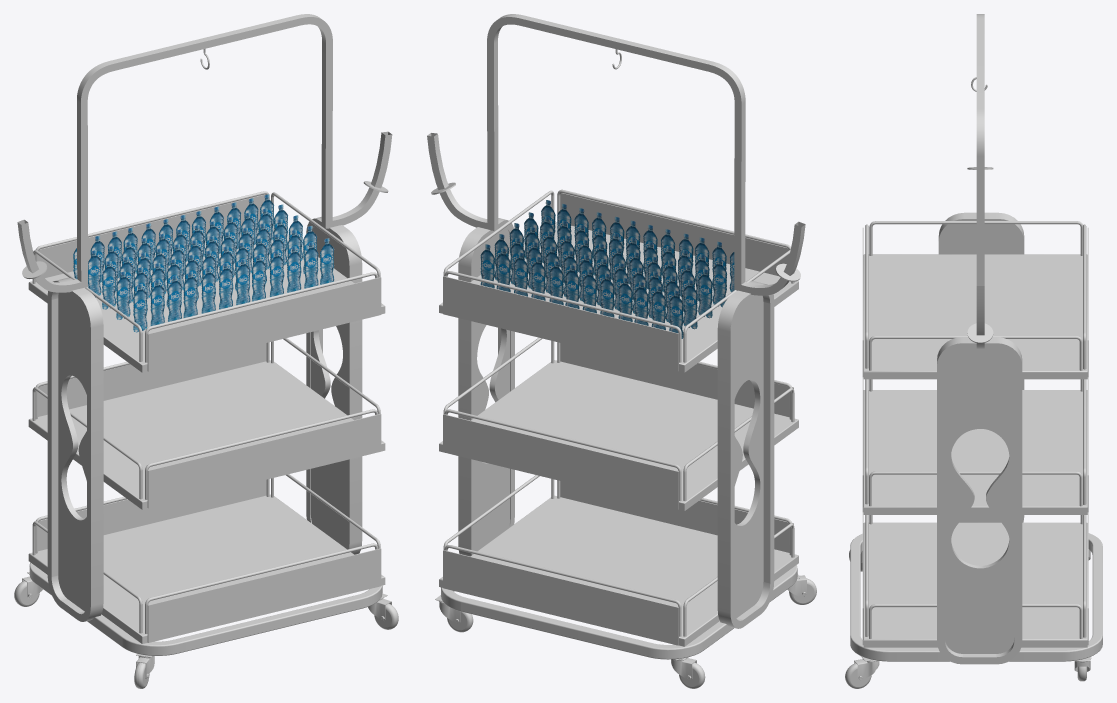
File: Mueble1.fbx
3 views of the same model, side by side, from view 1: azimuth 30°, elevation 25°; view 2: azimuth 150°, elevation 25°; view 3: azimuth 270°, elevation 25° (orthographic). The views are drawn at different scales.
Parts seen in each view (by area): view 1: mueble, bordes, Plano_15, latearles; view 2: mueble, bordes, Plano_15, latearles; view 3: mueble, latearles, bordes.
Boxes of the visible parts, x1,y1,x2,y2 form: mueble: (14,14,398,688); bordes: (34,194,381,642); Plano_15: (73,194,334,332); latearles: (58,226,345,611); mueble: (427,14,816,688); bordes: (443,193,793,645); Plano_15: (480,200,734,338); latearles: (475,228,763,618); mueble: (845,14,1102,688); latearles: (944,226,1016,653); bordes: (862,227,1088,645).
Size of the model in its own units: 134 by 198 by 81.47.
Materials: 1 (1 with a texture image).
